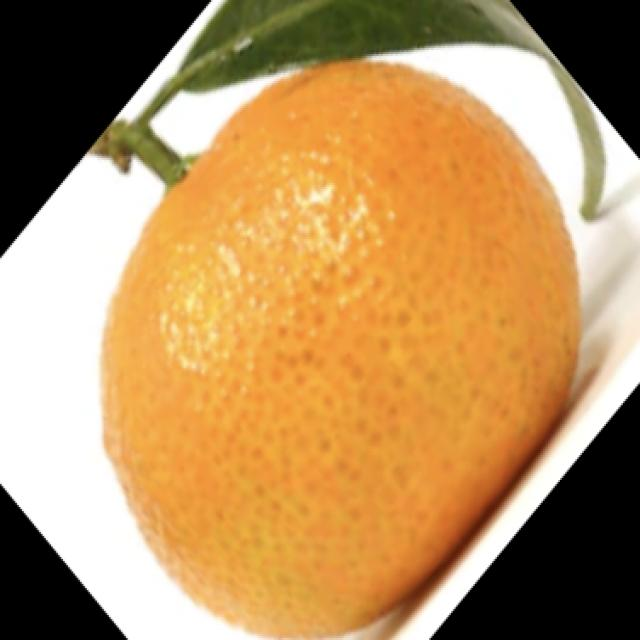fresh: (37, 7, 599, 636)
